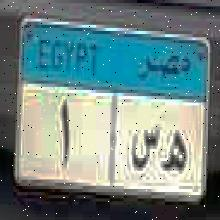1: (59, 93, 72, 167)
haa: (160, 124, 186, 182)
seen: (128, 122, 160, 176)
